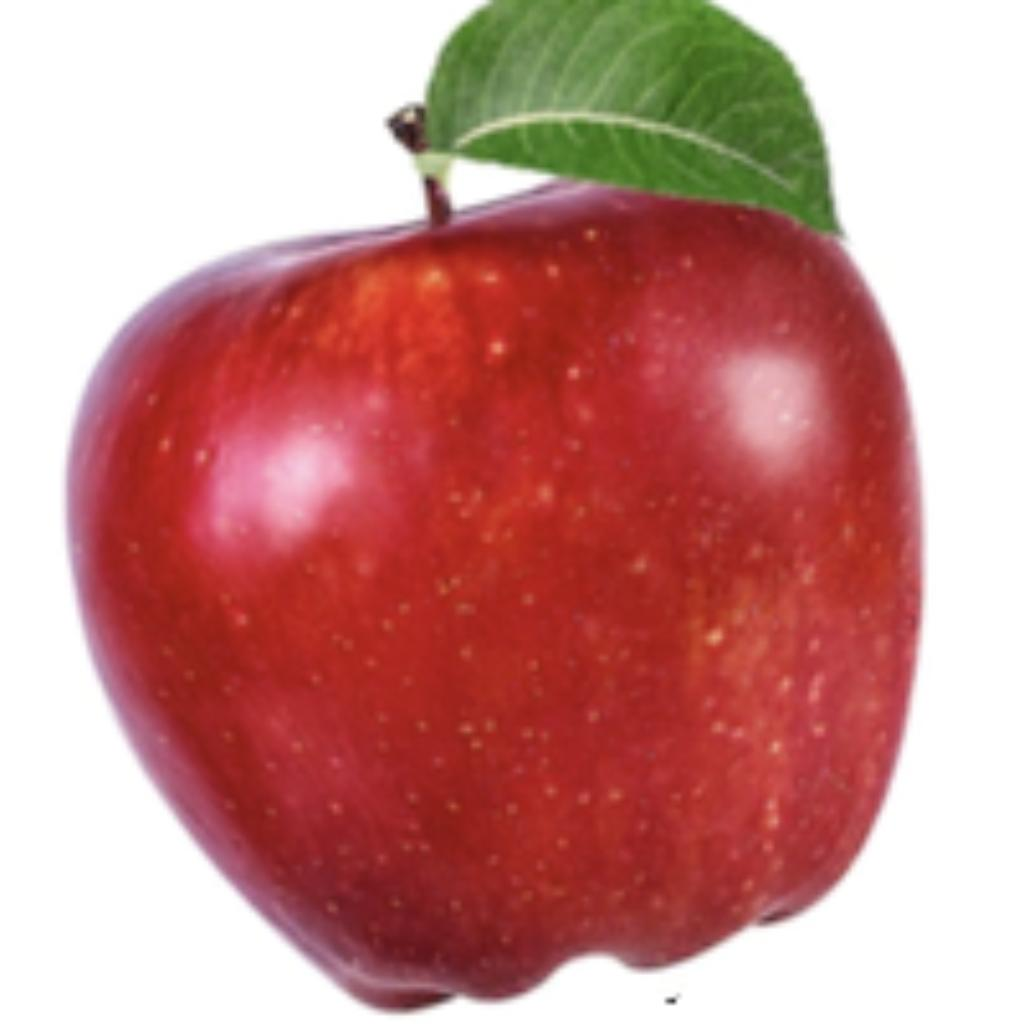apple: (56, 0, 927, 1019)
